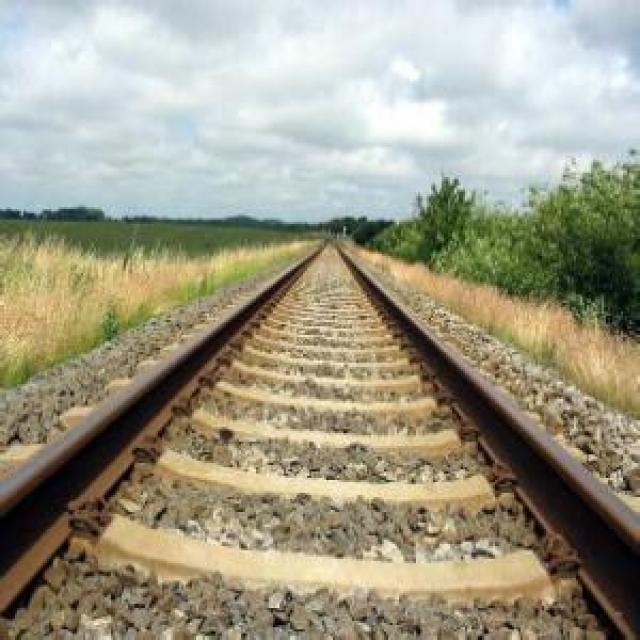rail: (0, 232, 639, 640)
